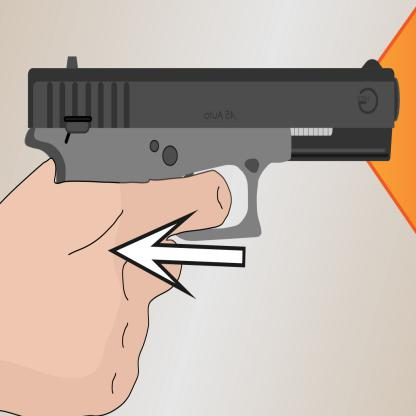gun: (13, 37, 411, 326)
